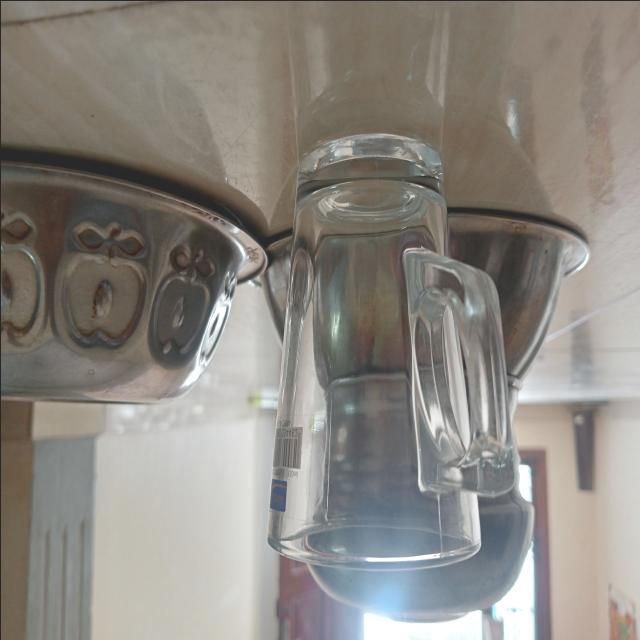glass-VX4N: (266, 128, 522, 572)
